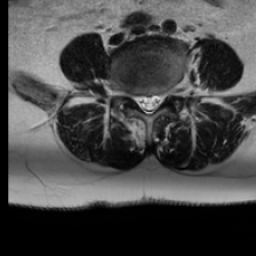CCS_stenosis: (144, 82, 153, 123)
LFS_stenosis: (162, 77, 171, 108)
LLS_normal: (153, 83, 162, 117)
RFS_stenosis: (126, 80, 135, 110)
RLS_normal: (135, 83, 144, 118)
